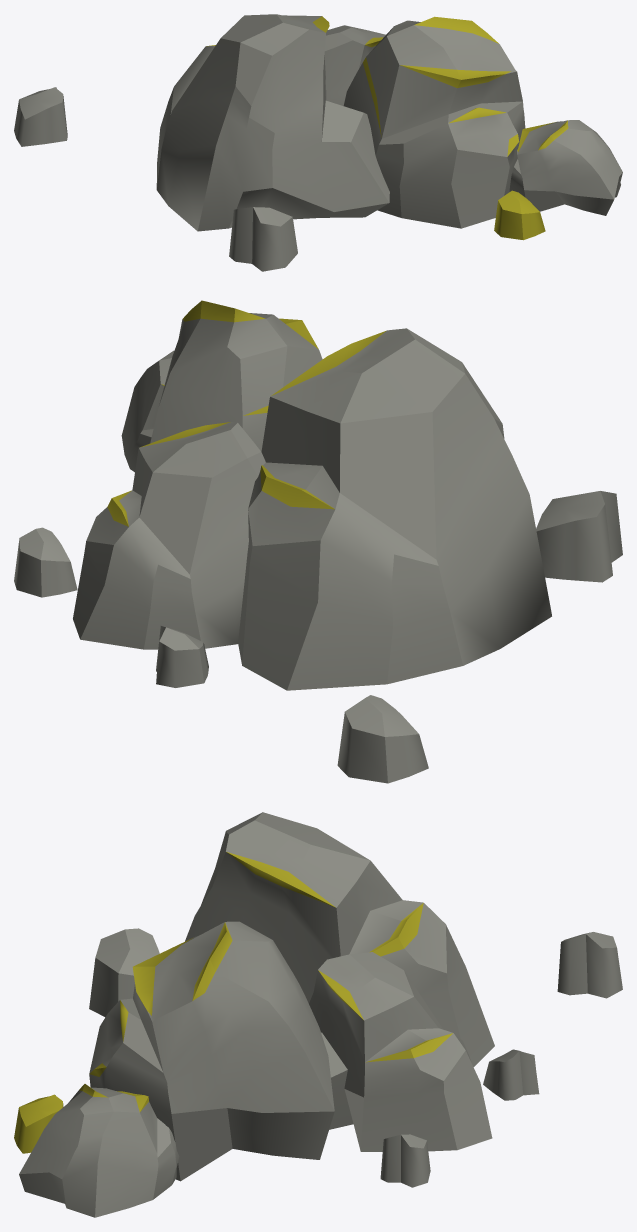
Rendered from gold_01.fbx.
3 views of the same model, one above another, from view 1: azimuth 30°, elevation 25°; view 2: azimuth 150°, elevation 25°; view 3: azimuth 270°, elevation 25° (orthographic). The views are drawn at different scales.
Visible parts, largest first — view 1: gold_01; view 2: gold_01; view 3: gold_01.
Part boxes in pixels (<box>): gold_01: <box>14,14,622,271</box>; gold_01: <box>14,300,622,783</box>; gold_01: <box>14,812,622,1217</box>.
Size of the model in its own units: 0.3528 by 0.1519 by 0.3613.
